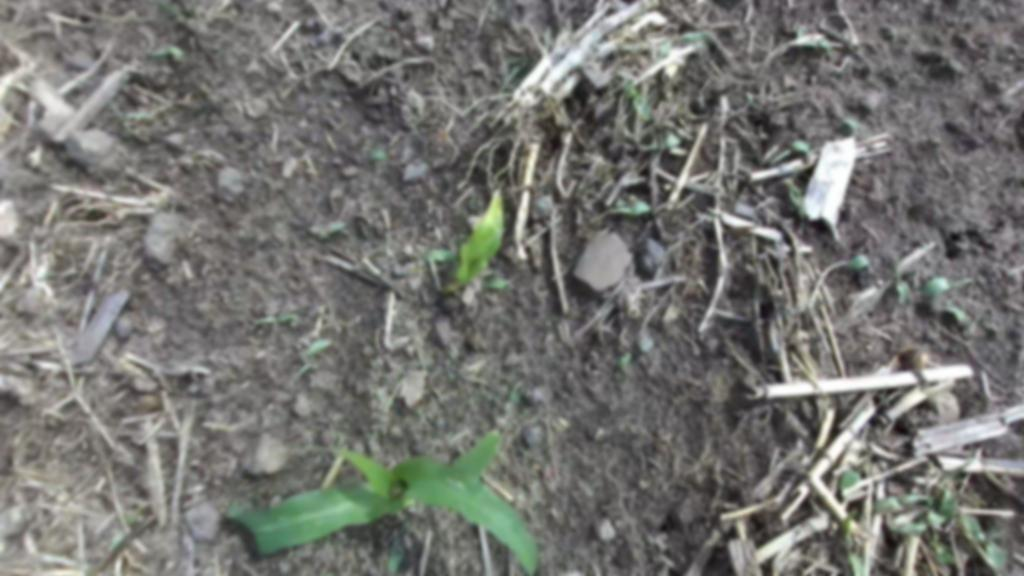BroWeed: (927, 451, 973, 523), (829, 508, 865, 576), (913, 265, 973, 302), (291, 330, 333, 382), (382, 515, 415, 576), (619, 77, 658, 125), (495, 49, 531, 98), (778, 174, 811, 223), (923, 524, 958, 570), (636, 127, 681, 160), (954, 507, 991, 547), (871, 492, 931, 516), (982, 528, 1011, 575), (800, 28, 839, 61), (841, 245, 881, 277), (767, 137, 812, 165), (887, 502, 931, 530), (144, 39, 189, 65), (888, 262, 914, 307), (103, 100, 138, 132), (306, 217, 349, 243), (609, 197, 652, 223), (425, 231, 459, 263), (663, 118, 696, 148), (612, 186, 647, 209), (888, 520, 929, 538), (253, 310, 301, 325), (943, 299, 970, 325), (924, 461, 944, 496), (657, 29, 679, 60), (675, 28, 710, 47), (506, 375, 528, 405), (838, 466, 865, 490), (922, 508, 948, 532), (895, 471, 930, 486), (615, 350, 633, 376), (123, 507, 146, 527), (124, 109, 153, 123), (838, 117, 861, 134), (929, 292, 944, 316), (285, 315, 309, 329), (484, 277, 512, 289), (262, 303, 281, 320), (111, 527, 125, 548), (795, 17, 809, 38), (668, 143, 689, 157), (369, 147, 389, 161), (927, 499, 941, 513), (829, 39, 846, 48), (910, 485, 924, 494), (927, 495, 936, 506), (339, 227, 349, 236)
Maize: (224, 416, 544, 576), (435, 186, 527, 308)
